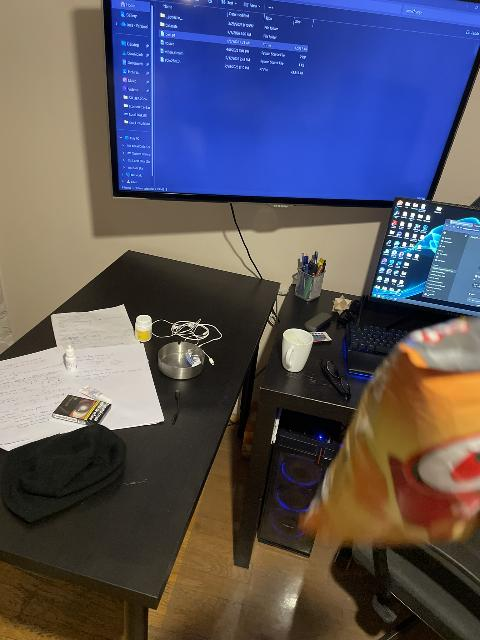Chio Cascaval 125g: (295, 317, 480, 556)
